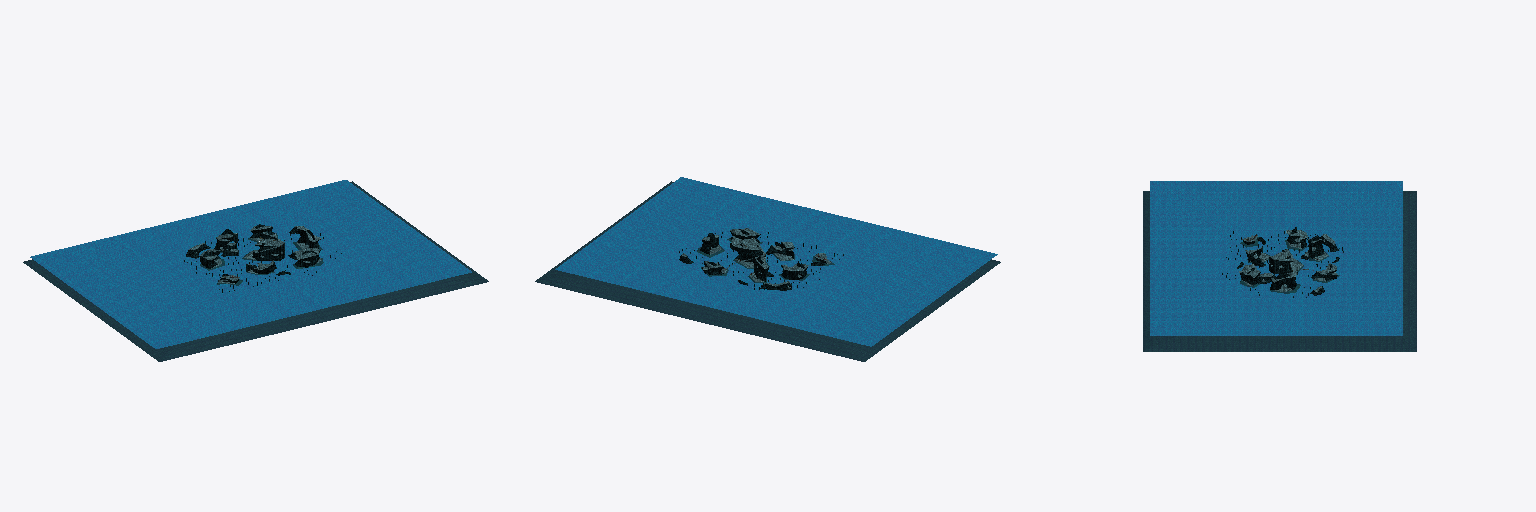
3 views of the same model, side by side, from view 1: azimuth 30°, elevation 25°; view 2: azimuth 150°, elevation 25°; view 3: azimuth 270°, elevation 25° (orthographic).
Visible parts, largest first — view 1: pilotwingsnowsisland; view 2: pilotwingsnowsisland; view 3: pilotwingsnowsisland.
Boxes of the visible parts, x1=… form: pilotwingsnowsisland: x1=23, y1=180, x2=488, y2=361; pilotwingsnowsisland: x1=535, y1=177, x2=1000, y2=361; pilotwingsnowsisland: x1=1143, y1=181, x2=1416, y2=351.
Bounding box in the file's own units: 259 × 23.82 × 187.
Materials: 10 (7 with a texture image).